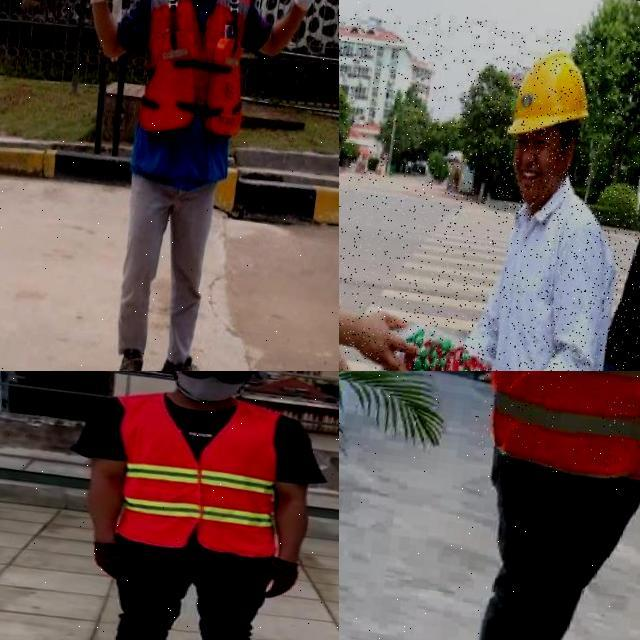boots: (152, 349, 220, 371), (103, 342, 149, 371)
helmet: (505, 44, 598, 146)
vest: (106, 387, 294, 560), (125, 0, 262, 187), (468, 371, 640, 495)
